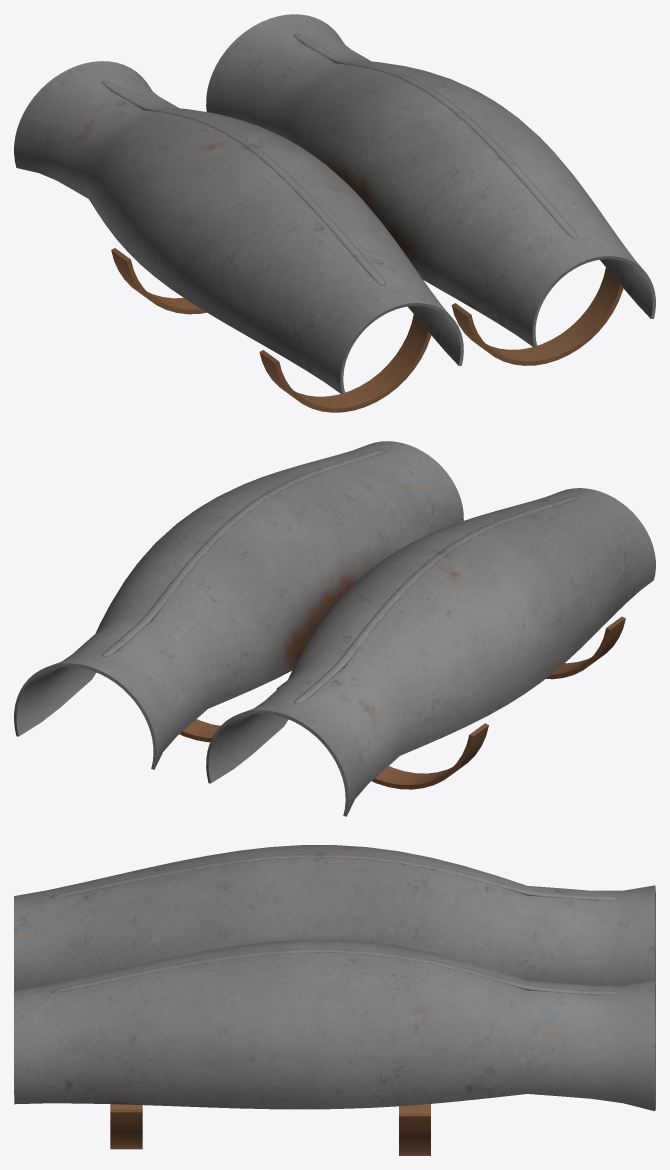
File: greaves.glb
The picture shows the model from 3 angles, top to bottom: view 1: azimuth 30°, elevation 25°; view 2: azimuth 150°, elevation 25°; view 3: azimuth 270°, elevation 25°; orthographic projection.
Parts seen in each view (by area): view 1: greaves; view 2: greaves; view 3: greaves.
Boxes of the visible parts, left/top/right/bottom form: greaves: left=14, top=14, right=655, bottom=412; greaves: left=14, top=441, right=655, bottom=816; greaves: left=14, top=845, right=655, bottom=1155.
Size of the model in its own units: 0.2746 by 0.1353 by 0.4005.
Materials: 1 (1 with a texture image).
